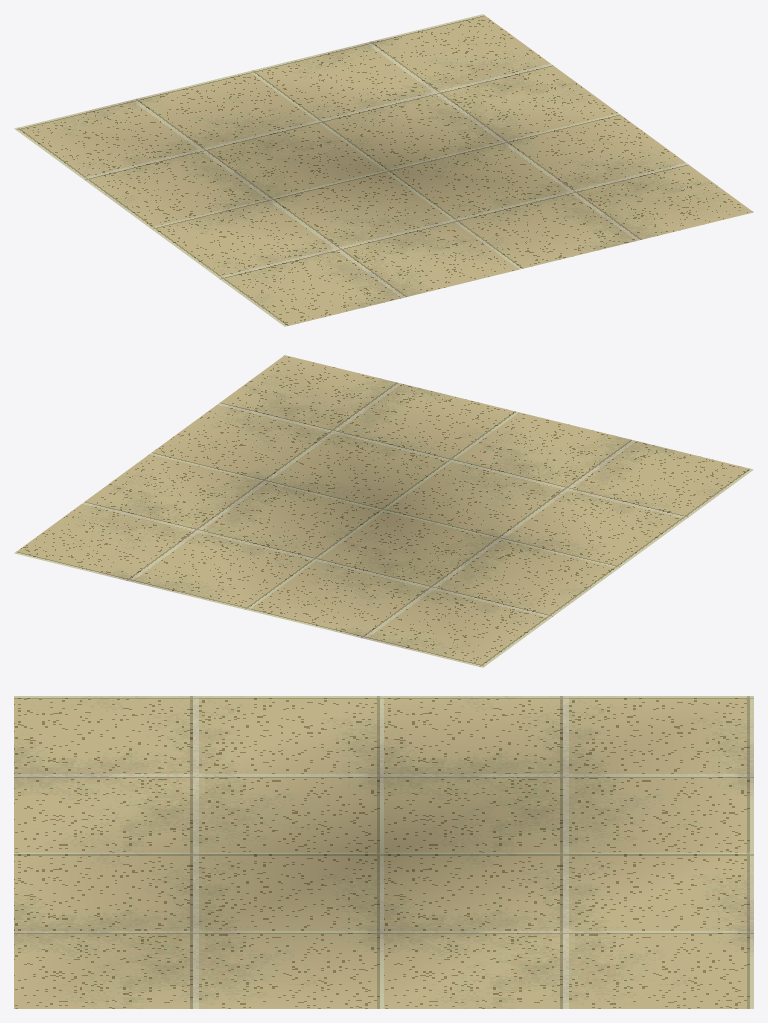
Rendered from ceiling_yellow_light.glb.
3 renders of one model, top to bottom at view 1: azimuth 30°, elevation 25°; view 2: azimuth 150°, elevation 25°; view 3: azimuth 270°, elevation 25°, orthographic. The views are drawn at different scales.
Parts seen in each view (by area): view 1: ceiling_yellow_light; view 2: ceiling_yellow_light; view 3: ceiling_yellow_light.
Part boxes in pixels (bbox=[...]): ceiling_yellow_light: bbox=[14, 14, 753, 326]; ceiling_yellow_light: bbox=[14, 355, 753, 667]; ceiling_yellow_light: bbox=[14, 696, 753, 1008].
Size of the model in its own units: 2 by 0.032 by 2.
